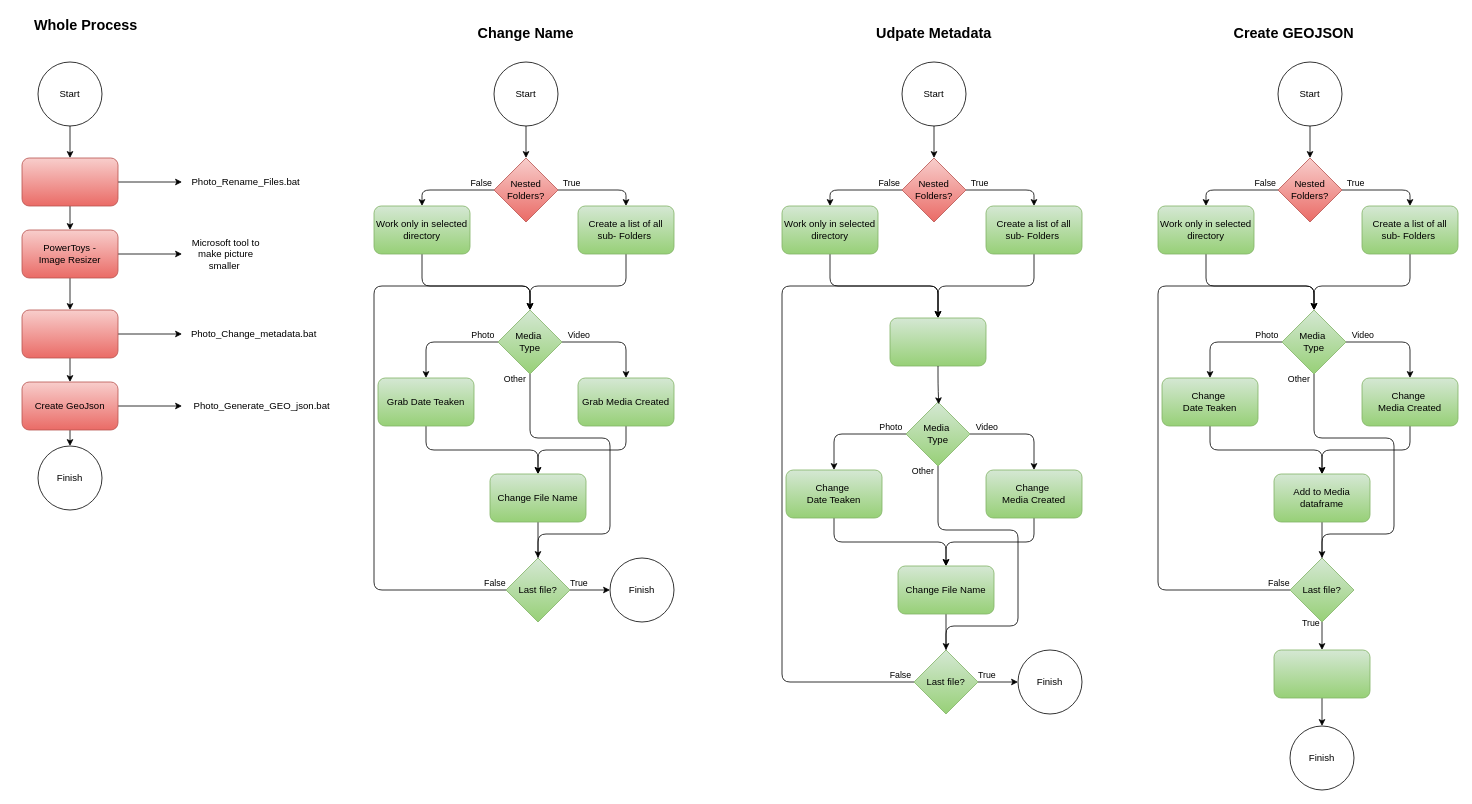
Some shapes in this 1472 by 804 pixel diagram are drawn without their labels. Each missing label, with the centre of its shape:
"Export .geojson" goes at pixel 1321 673.
"Get File name in time format" goes at pixel 937 341.
"Rename Media Files" goes at pixel 69 181.
"Update Date Taken, Media Created" goes at pixel 69 333.
